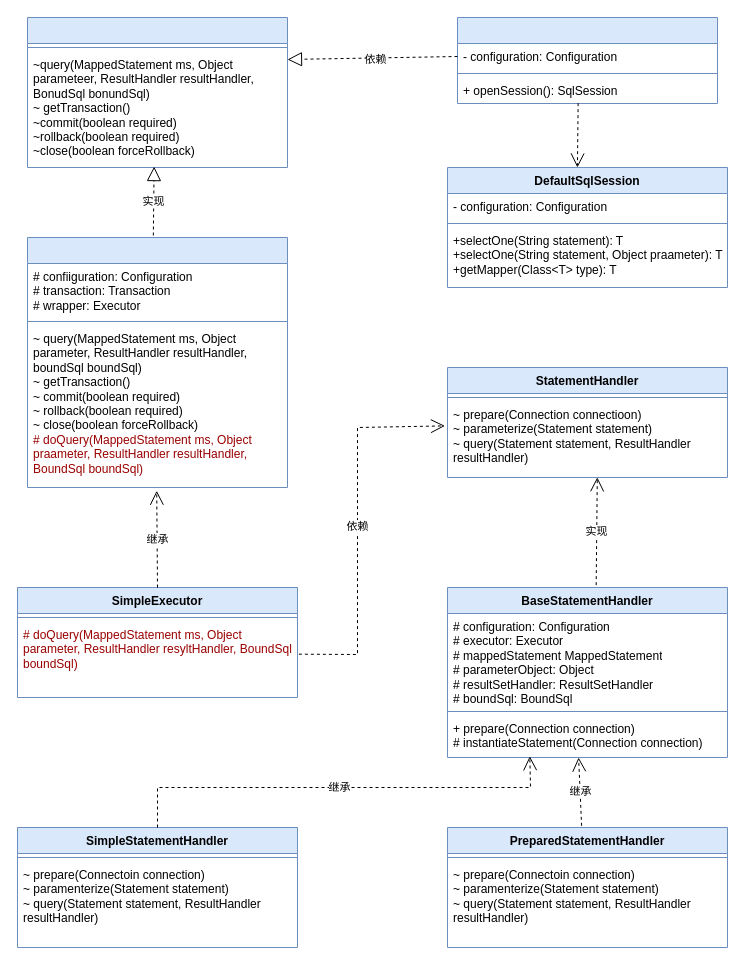
The diagram is 745 pixels wide and 968 high, and some of its shapes have lost their labels. Each missing label, with the box of its shape:
BaseExecutor: (26, 236, 288, 488)
DefaultSqlSessionFactory: (456, 16, 718, 104)
Executor: (26, 16, 288, 168)
